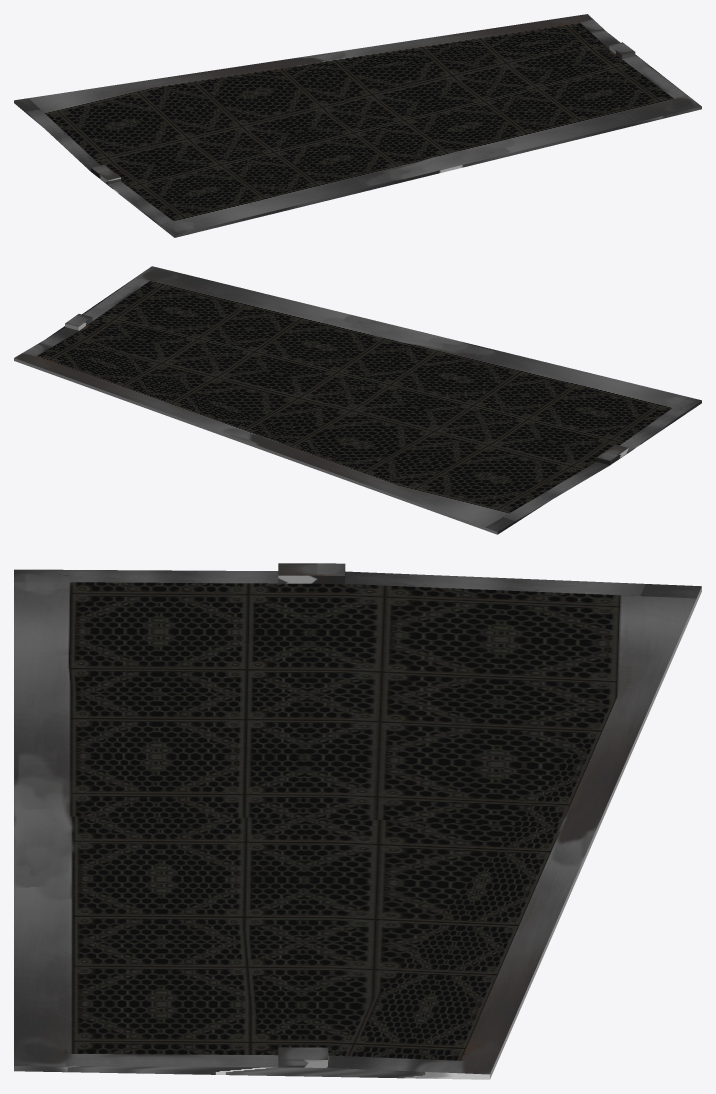
File: Track20DegreeTurn.fbx
The picture shows the model from 3 angles, top to bottom: view 1: azimuth 30°, elevation 25°; view 2: azimuth 150°, elevation 25°; view 3: azimuth 270°, elevation 25°; orthographic projection. The views are drawn at different scales.
Parts seen in each view (by area): view 1: Track; view 2: Track; view 3: Track.
Boxes of the visible parts, x1,y1,x2,y2 form: Track: (14,14,701,237); Track: (14,266,701,534); Track: (14,563,701,1079).
Size of the model in its own units: 4069 by 50 by 2343.
1 material, 1 textured.
